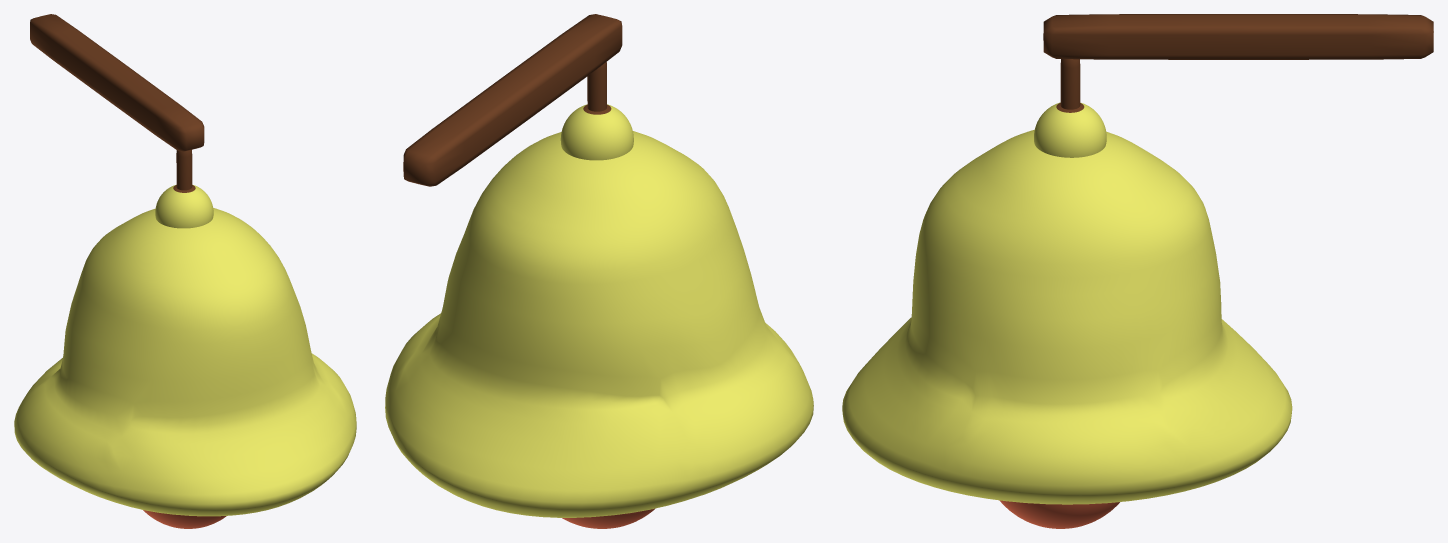
The model's file is bell.fbx.
3 renders of one model, left to right at view 1: azimuth 30°, elevation 25°; view 2: azimuth 150°, elevation 25°; view 3: azimuth 270°, elevation 25°, orthographic. The views are drawn at different scales.
Parts seen in each view (by area): view 1: Sphere.002; view 2: Sphere.002; view 3: Sphere.002.
Boxes of the visible parts, left/top/right/bottom form: Sphere.002: left=14, top=14, right=356, bottom=528; Sphere.002: left=385, top=14, right=813, bottom=528; Sphere.002: left=842, top=14, right=1433, bottom=528.
Size of the model in its own units: 319 by 411 by 439.
